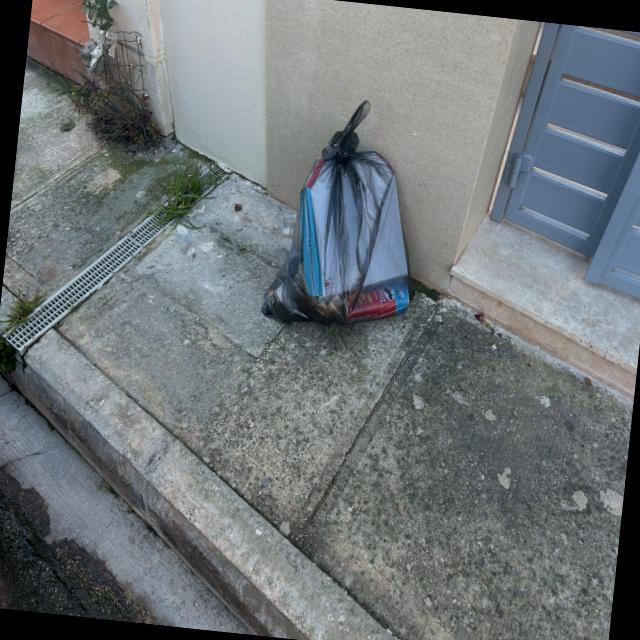black_bag: (254, 89, 436, 339)
